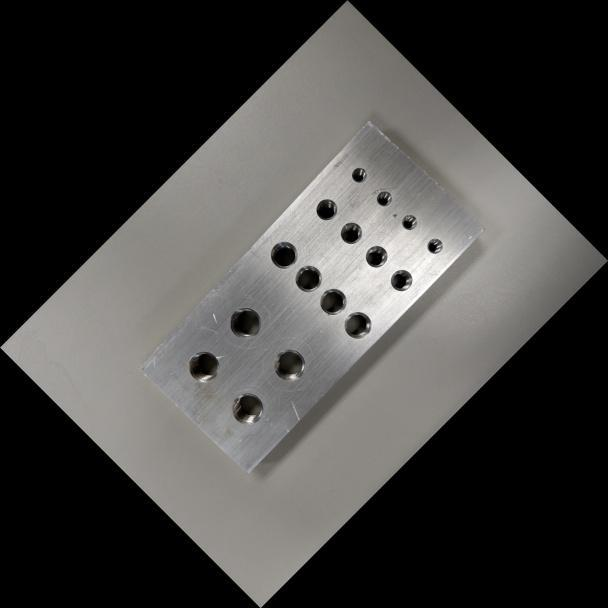hole: (265, 341, 312, 388), (221, 299, 268, 346), (224, 385, 270, 432), (180, 343, 226, 389), (262, 234, 304, 275), (337, 304, 377, 345), (288, 258, 328, 299), (312, 281, 352, 321), (359, 239, 393, 273), (384, 264, 417, 297), (334, 216, 367, 249), (310, 192, 343, 225), (422, 234, 446, 257), (397, 210, 421, 233), (347, 162, 370, 186), (372, 186, 395, 209)
